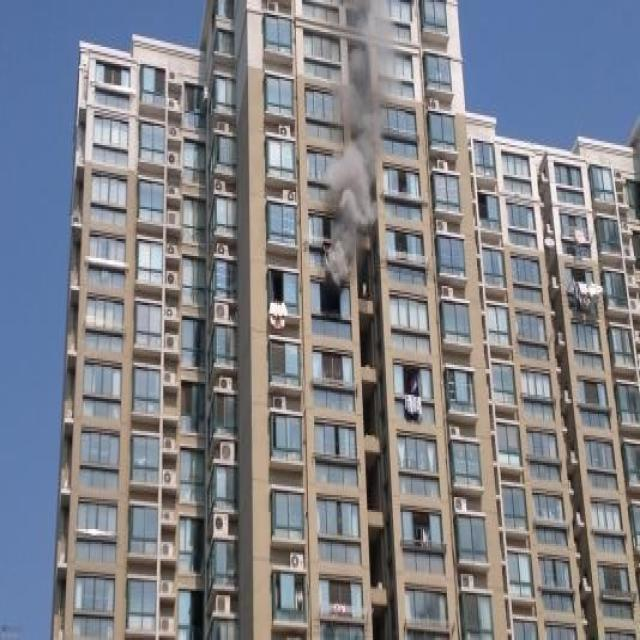Smoke: (323, 2, 393, 290)
